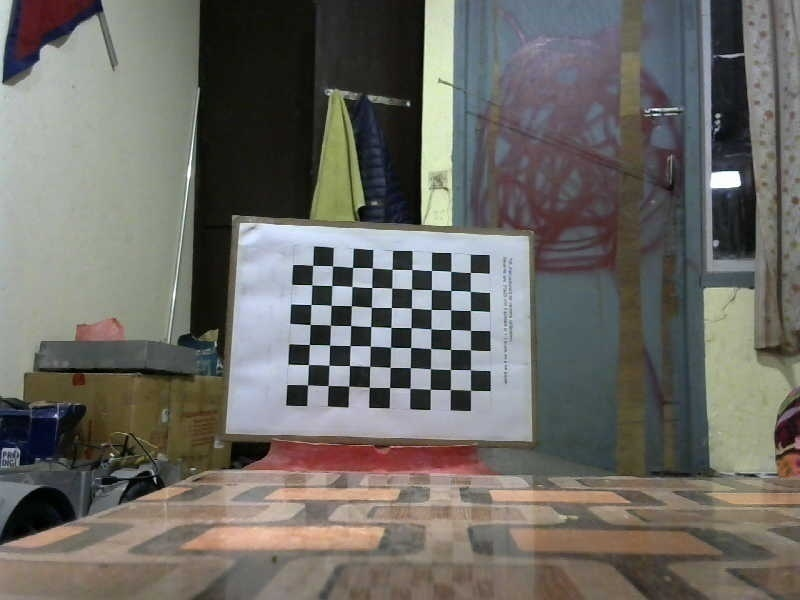block: (232, 219, 537, 441)
